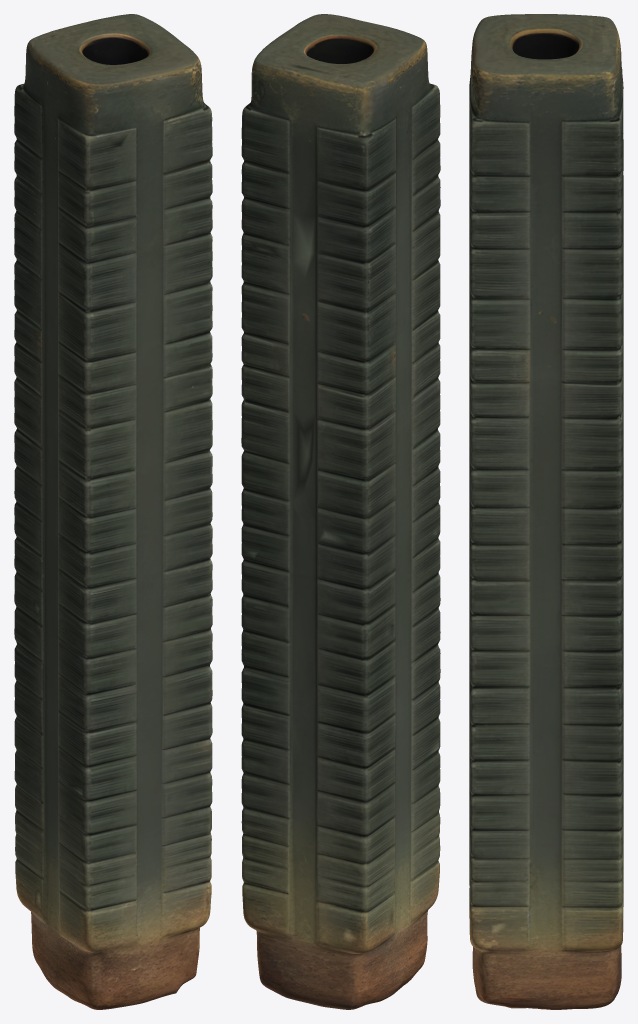
The model's file is liangzhu-tall-detail.glb.
The picture shows the model from 3 angles, left to right: view 1: azimuth 30°, elevation 25°; view 2: azimuth 150°, elevation 25°; view 3: azimuth 270°, elevation 25°; orthographic projection.
Parts seen in each view (by area): view 1: node_0; view 2: node_0; view 3: node_0.
Boxes of the visible parts, bbox=[...] form: node_0: bbox=[14, 14, 212, 1009]; node_0: bbox=[241, 14, 440, 1009]; node_0: bbox=[469, 14, 623, 1009].
Bounding box in the file's own units: 0.1716 × 1.19 × 0.1754.
Materials: 1 (1 with a texture image).
